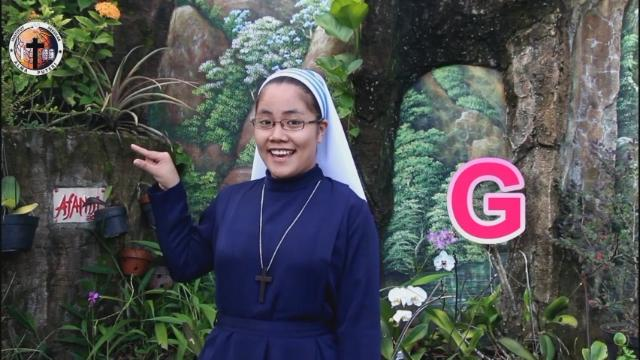G: (130, 141, 177, 183)
